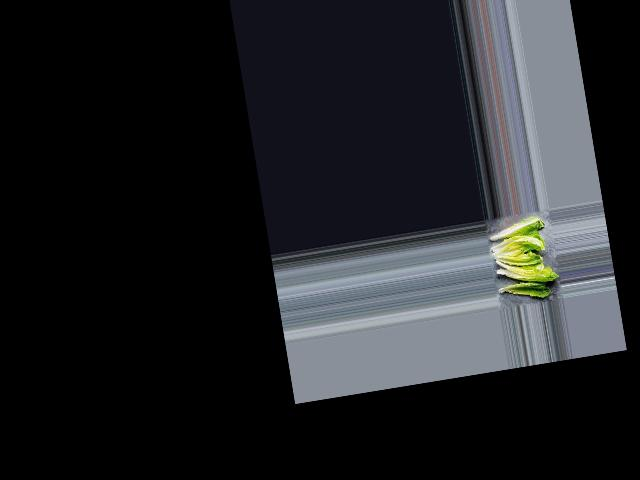lettuce: (495, 277, 550, 303)
